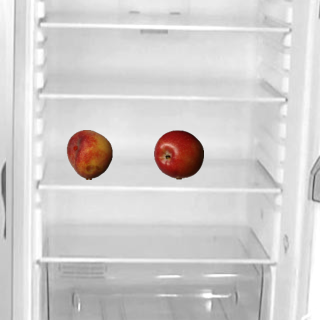Apple Braeburn: (153, 129, 203, 179)
Peach: (64, 129, 114, 179)
